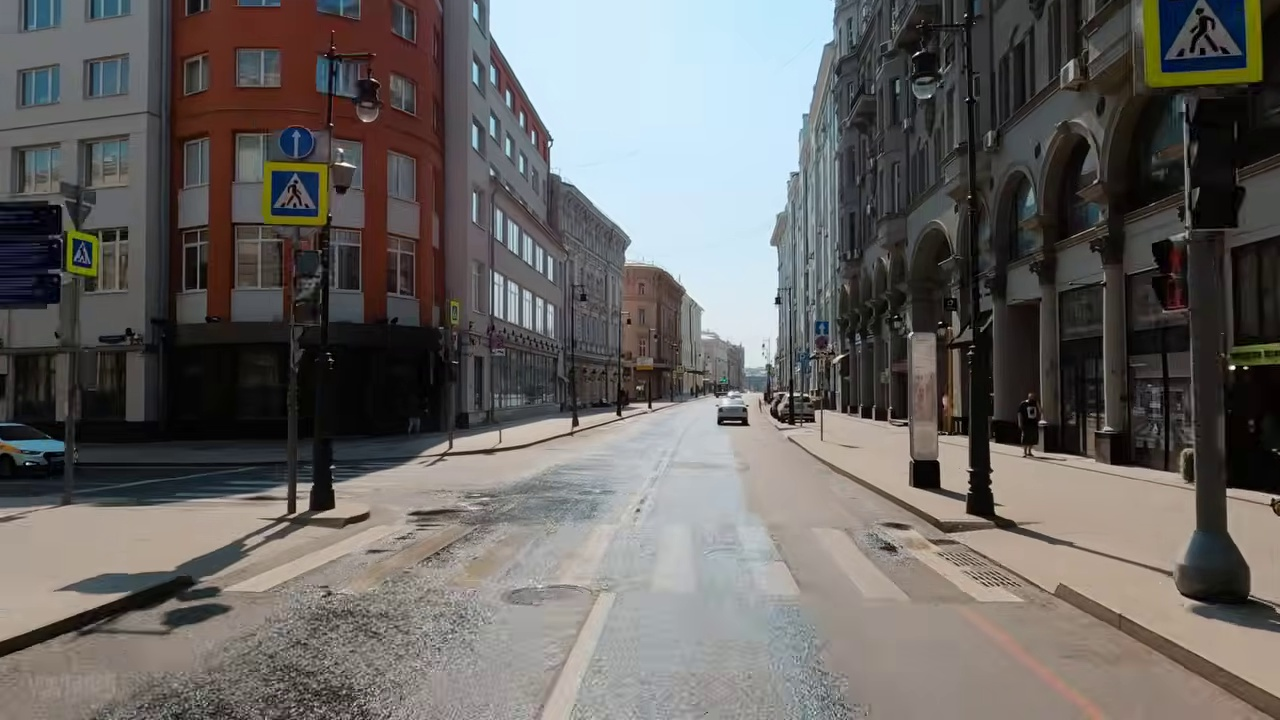apagada: (356, 77, 382, 129)
